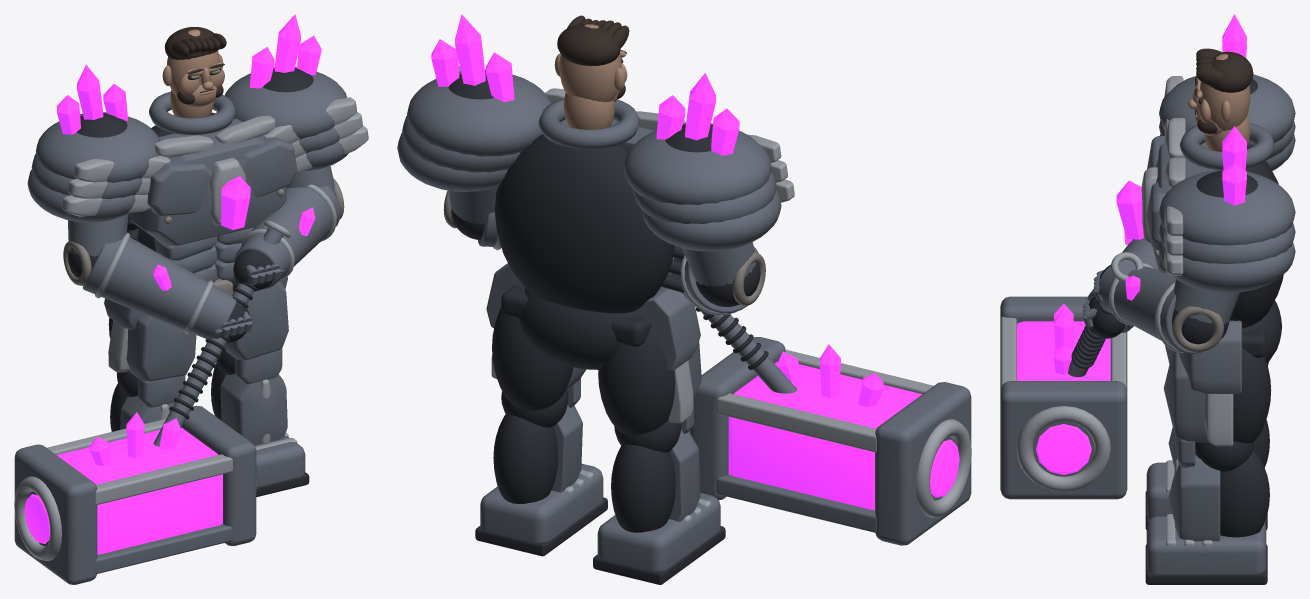
The model's file is vanguard_hammer.glb.
3 renders of one model, left to right at view 1: azimuth 30°, elevation 25°; view 2: azimuth 150°, elevation 25°; view 3: azimuth 270°, elevation 25°, orthographic. The views are drawn at different scales.
Parts seen in each view (by area): view 1: Vanguard_DarkForgedSteel, Vanguard_VioletCrystal, Vanguard_WornEdges, Vanguard_JointLeather, Vanguard_Skin, Vanguard_Hair, Vanguard_OldTitanium; view 2: Vanguard_DarkForgedSteel, Vanguard_JointLeather, Vanguard_VioletCrystal, Vanguard_WornEdges, Vanguard_Skin, Vanguard_Hair, Vanguard_OldTitanium; view 3: Vanguard_DarkForgedSteel, Vanguard_JointLeather, Vanguard_WornEdges, Vanguard_VioletCrystal, Vanguard_Skin, Vanguard_Hair, Vanguard_OldTitanium.
Boxes of the visible parts, box(x1,y1,x2,y2) form: Vanguard_DarkForgedSteel: box(14, 67, 348, 584); Vanguard_VioletCrystal: box(24, 14, 321, 554); Vanguard_WornEdges: box(14, 97, 368, 560); Vanguard_JointLeather: box(68, 68, 335, 496); Vanguard_Skin: box(162, 29, 224, 118); Vanguard_Hair: box(164, 27, 226, 104); Vanguard_OldTitanium: box(63, 178, 344, 294); Vanguard_DarkForgedSteel: box(397, 71, 971, 571); Vanguard_JointLeather: box(448, 70, 768, 584); Vanguard_VioletCrystal: box(431, 14, 959, 510); Vanguard_WornEdges: box(458, 66, 971, 522); Vanguard_Skin: box(554, 24, 627, 129); Vanguard_Hair: box(557, 15, 629, 99); Vanguard_OldTitanium: box(443, 190, 765, 305); Vanguard_DarkForgedSteel: box(1000, 74, 1295, 574); Vanguard_JointLeather: box(1071, 78, 1283, 584); Vanguard_WornEdges: box(1001, 76, 1233, 546); Vanguard_VioletCrystal: box(1017, 14, 1246, 474); Vanguard_Skin: box(1188, 54, 1250, 151); Vanguard_Hair: box(1195, 48, 1253, 133); Vanguard_OldTitanium: box(1154, 249, 1223, 352).
Bounding box in the file's own units: 2.01 × 2.21 × 1.21.
